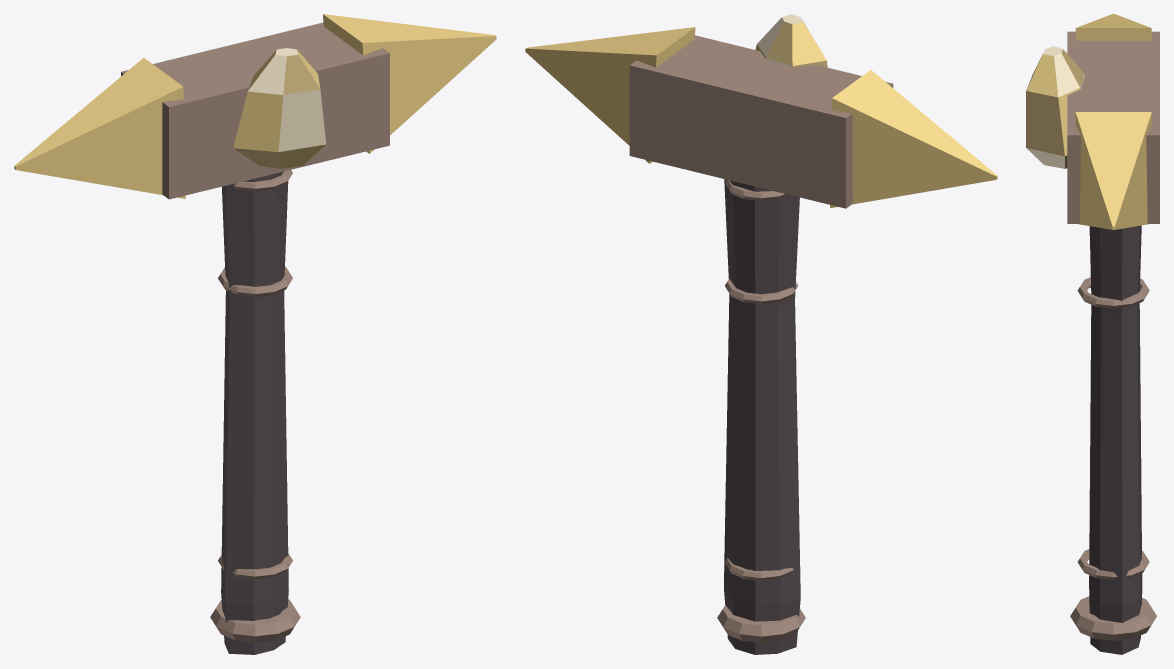
Rendered from BH_PICK_P19_Picareta_Divindade_Aurora_V01.glb.
3 views of the same model, side by side, from view 1: azimuth 30°, elevation 25°; view 2: azimuth 150°, elevation 25°; view 3: azimuth 270°, elevation 25° (orthographic). The views are drawn at different scales.
Parts seen in each view (by area): view 1: Handle | shaped shaft.001, Head | main crossbar.001, Head | mining tooth L.001, Head | inset mineral.001, Head | mining tooth R.001, Handle | pommel.001, Handle | binding 3.001, Handle | binding 1.001; view 2: Handle | shaped shaft.001, Head | main crossbar.001, Head | mining tooth L.001, Head | mining tooth R.001, Head | inset mineral.001, Handle | pommel.001, Handle | binding 3.001; view 3: Handle | shaped shaft.001, Head | main crossbar.001, Head | mining tooth R.001, Head | inset mineral.001, Handle | pommel.001, Head | mining tooth L.001, Handle | binding 3.001, Handle | binding 1.001.
Boxes of the visible parts, x1,y1,x2,y2 form: Handle | shaped shaft.001: [221, 171, 288, 654]; Head | main crossbar.001: [121, 22, 389, 199]; Head | mining tooth L.001: [14, 57, 185, 198]; Head | inset mineral.001: [233, 48, 326, 168]; Head | mining tooth R.001: [323, 14, 496, 153]; Handle | pommel.001: [210, 599, 300, 642]; Handle | binding 3.001: [218, 266, 292, 296]; Handle | binding 1.001: [218, 553, 292, 579]; Handle | shaped shaft.001: [724, 179, 800, 654]; Head | main crossbar.001: [629, 35, 893, 208]; Head | mining tooth L.001: [830, 70, 997, 208]; Head | mining tooth R.001: [525, 27, 695, 163]; Head | inset mineral.001: [755, 14, 827, 67]; Handle | pommel.001: [717, 605, 805, 642]; Handle | binding 3.001: [725, 279, 798, 304]; Handle | shaped shaft.001: [1089, 225, 1142, 654]; Head | main crossbar.001: [1067, 31, 1159, 223]; Head | mining tooth R.001: [1075, 112, 1151, 229]; Head | inset mineral.001: [1026, 46, 1085, 168]; Handle | pommel.001: [1070, 596, 1156, 640]; Head | mining tooth L.001: [1075, 14, 1151, 40]; Handle | binding 3.001: [1077, 277, 1149, 308]; Handle | binding 1.001: [1077, 549, 1149, 579].
Size of the model in its own units: 1.96 by 2.39 by 0.492.
